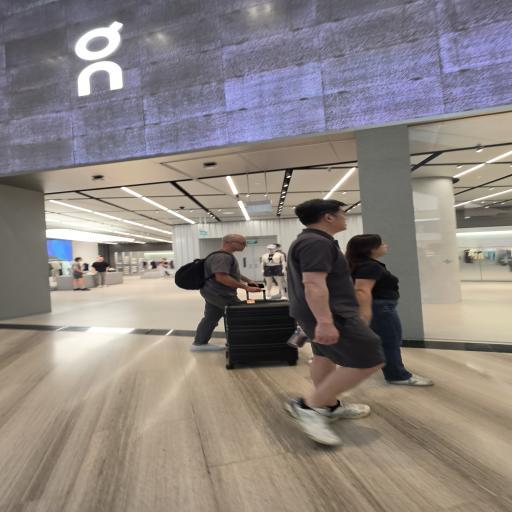person_right: (271, 199, 376, 421), (344, 230, 430, 380)
person_with_luggage_right: (176, 232, 308, 364)
